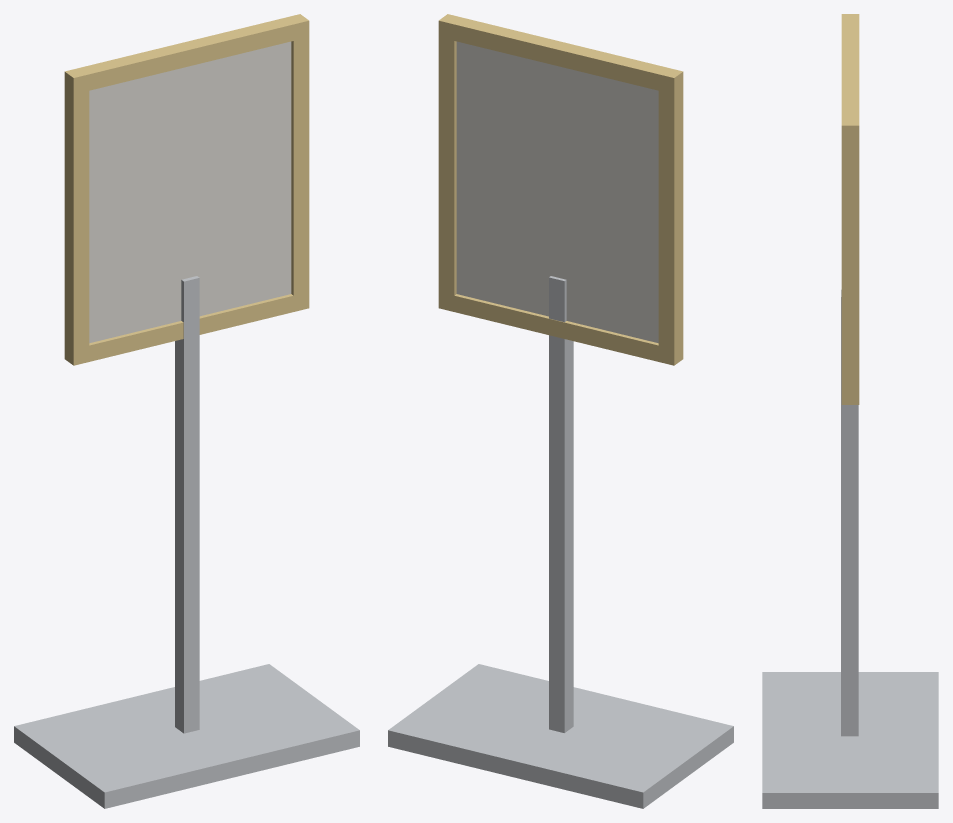
The model's file is bank-vault-heist-kit-signage-frame-237dca37__25096.glb.
The picture shows the model from 3 angles, left to right: view 1: azimuth 30°, elevation 25°; view 2: azimuth 150°, elevation 25°; view 3: azimuth 270°, elevation 25°; orthographic projection. The views are drawn at different scales.
Parts seen in each view (by area): view 1: signage-frame; view 2: signage-frame; view 3: signage-frame.
Part boxes in pixels (x1,y1,x2,y2): signage-frame: [14, 14, 359, 808]; signage-frame: [388, 14, 733, 808]; signage-frame: [762, 14, 938, 808].
Bounding box in the file's own units: 0.65 × 1.7 × 0.4.
